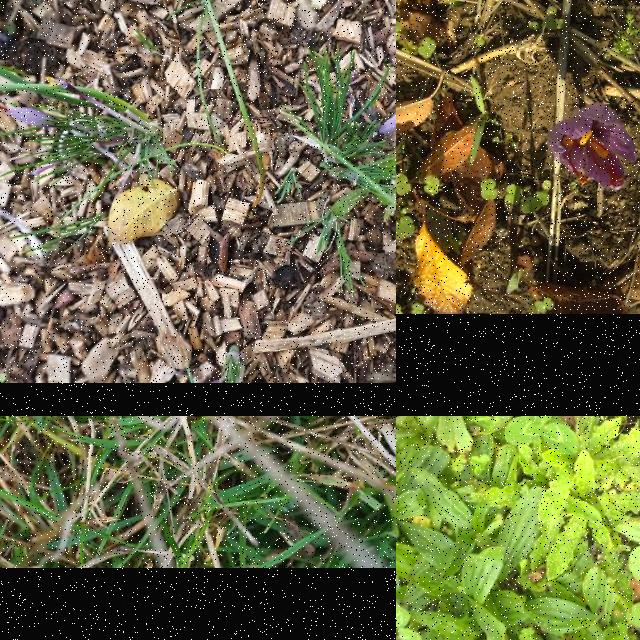flower: (550, 104, 636, 190), (0, 104, 55, 128), (375, 109, 396, 142)
